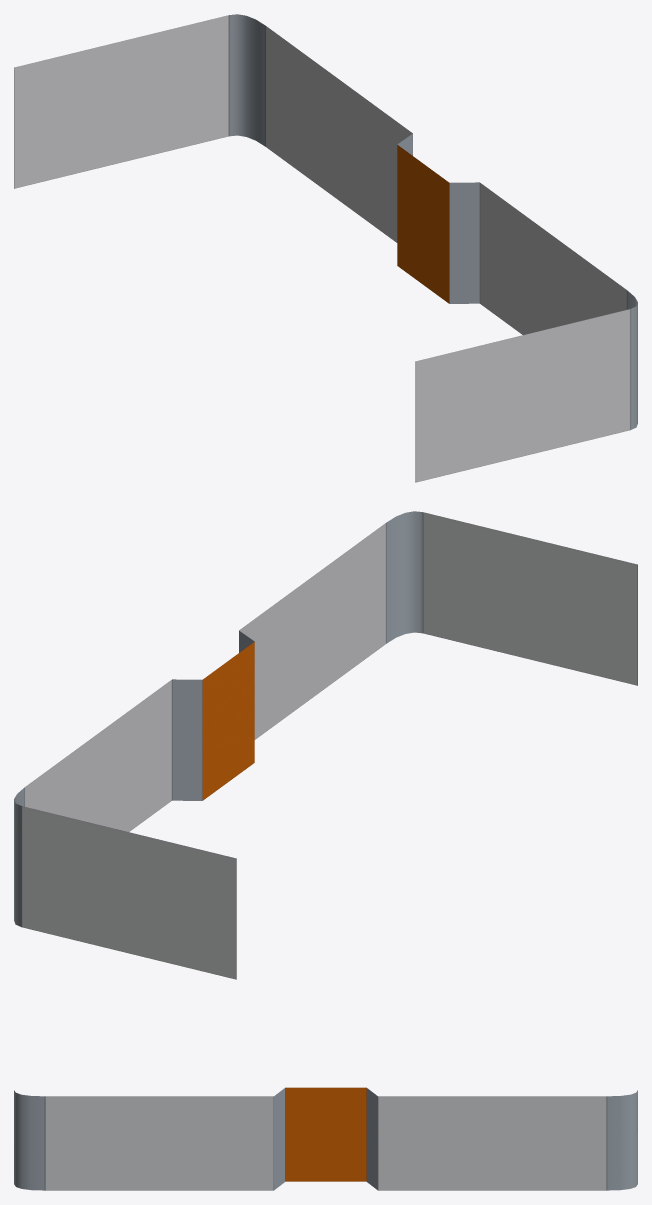
Rendered from Ext_Wall_Addon_04.FBX.
The picture shows the model from 3 angles, top to bottom: view 1: azimuth 30°, elevation 25°; view 2: azimuth 150°, elevation 25°; view 3: azimuth 270°, elevation 25°; orthographic projection. The views are drawn at different scales.
Parts seen in each view (by area): view 1: Ext_Wall_Addon_04; view 2: Ext_Wall_Addon_04; view 3: Ext_Wall_Addon_04.
Part boxes in pixels (x1,y1,x2,y2): Ext_Wall_Addon_04: [14, 14, 637, 482]; Ext_Wall_Addon_04: [14, 511, 637, 979]; Ext_Wall_Addon_04: [14, 1087, 637, 1190].
Size of the model in its own units: 2 by 1 by 6.
Materials: 2 (2 with a texture image).
